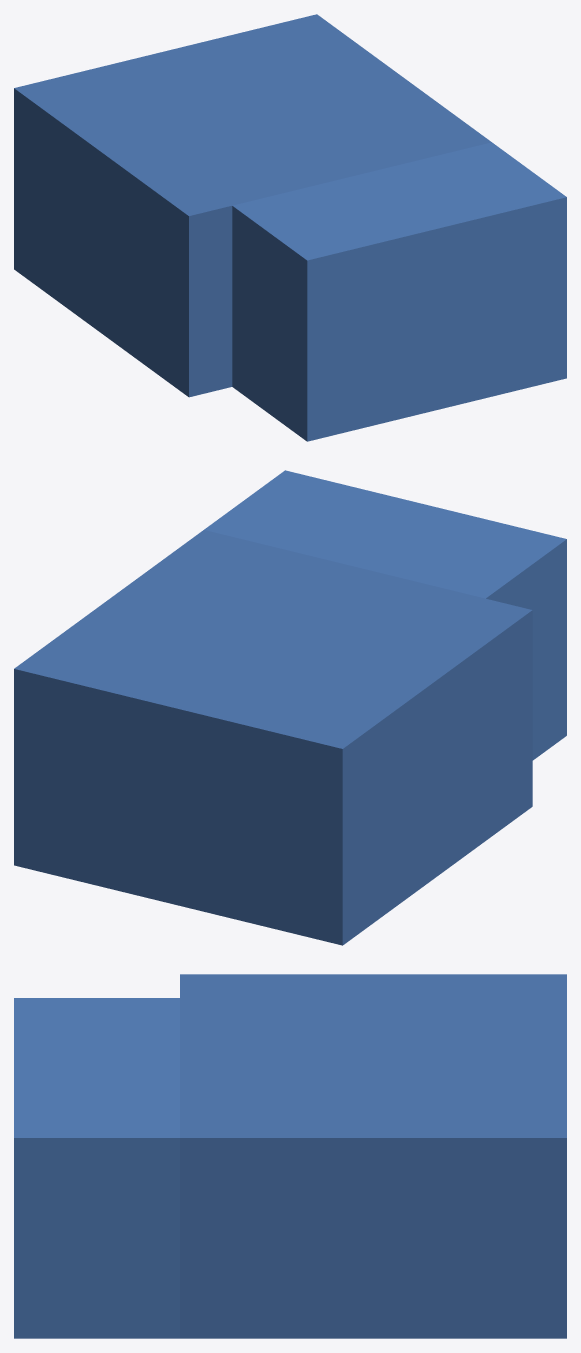
File: zafiro_03.glb
3 renders of one model, top to bottom at view 1: azimuth 30°, elevation 25°; view 2: azimuth 150°, elevation 25°; view 3: azimuth 270°, elevation 25°, orthographic. The views are drawn at different scales.
Visible parts, largest first — view 1: zafiro_03; view 2: zafiro_03; view 3: zafiro_03.
Part boxes in pixels (box(x1,y1,x2,y2)): zafiro_03: box(14, 14, 566, 441); zafiro_03: box(14, 470, 566, 945); zafiro_03: box(14, 974, 566, 1338).
Bounding box in the file's own units: 0.7 × 0.4 × 1.
